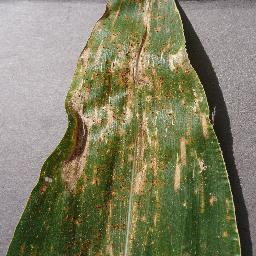Gray_Leaf_Spot: (47, 0, 228, 157), (2, 156, 244, 256)
